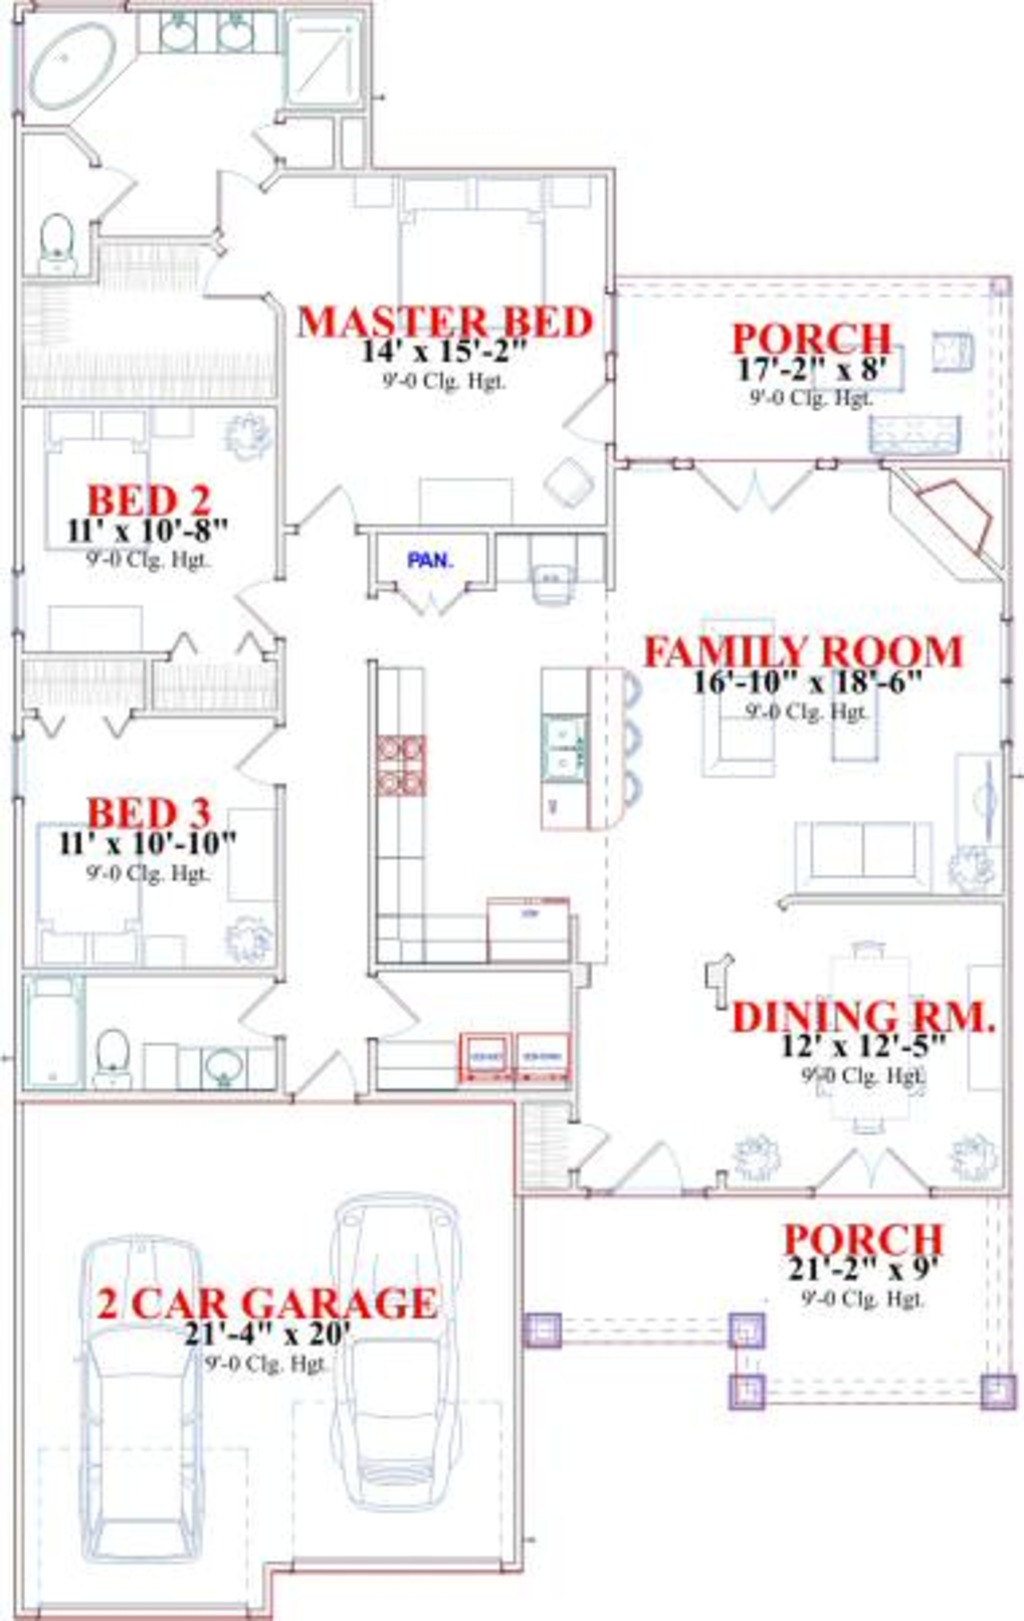bed: (388, 176, 549, 376), (38, 408, 158, 558), (38, 808, 146, 969)
door: (786, 1133, 931, 1192), (691, 451, 826, 511), (191, 158, 271, 243), (283, 483, 376, 551), (86, 147, 153, 231), (218, 711, 291, 783), (562, 363, 623, 448), (613, 1133, 685, 1196), (366, 976, 431, 1043), (227, 567, 285, 638), (293, 1043, 361, 1103), (238, 976, 298, 1033), (567, 1118, 621, 1172), (247, 104, 301, 144)
kitchen_bar: (518, 658, 671, 851)
large_sink: (86, 1020, 156, 1091), (33, 198, 88, 278)
large_sofa: (691, 608, 797, 786), (761, 803, 951, 898)
small_sink: (153, 13, 265, 58)
tub: (26, 4, 146, 118), (18, 963, 98, 1092)
